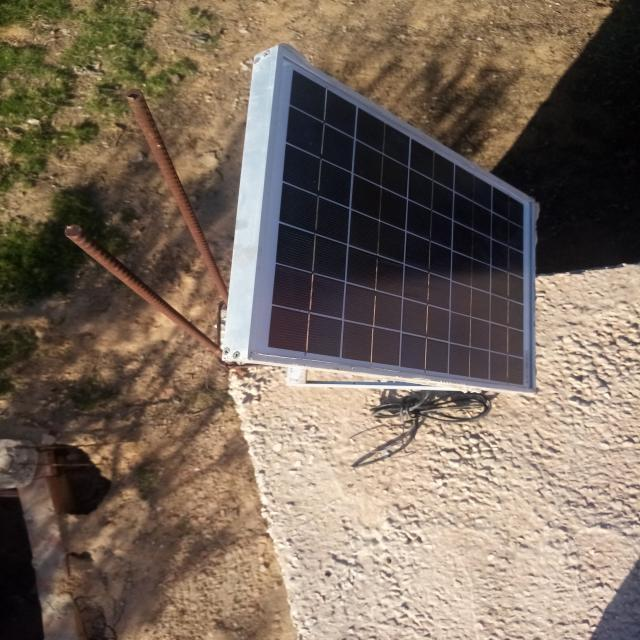Normal Solar Panel: (248, 48, 536, 391)
